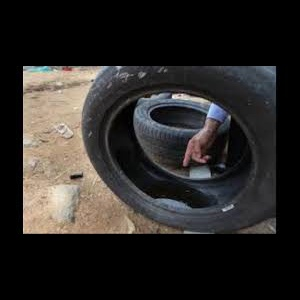tire: (82, 66, 276, 232), (133, 98, 227, 169)
